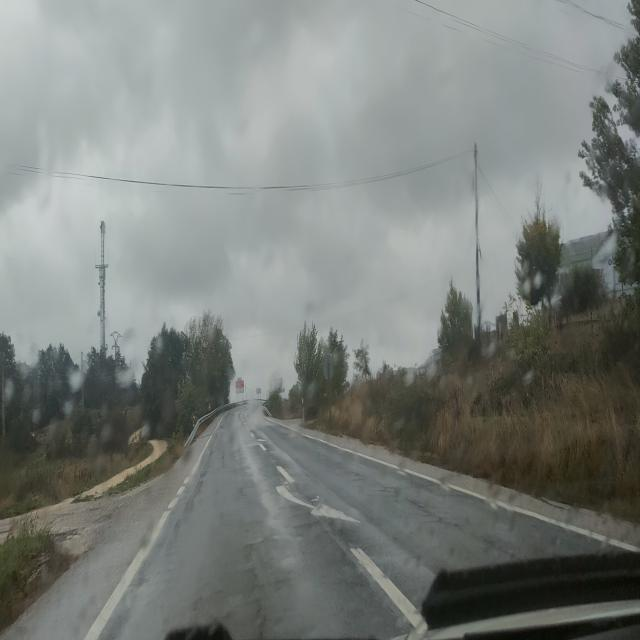Poth-hole: (252, 588, 278, 640), (239, 532, 261, 587)
